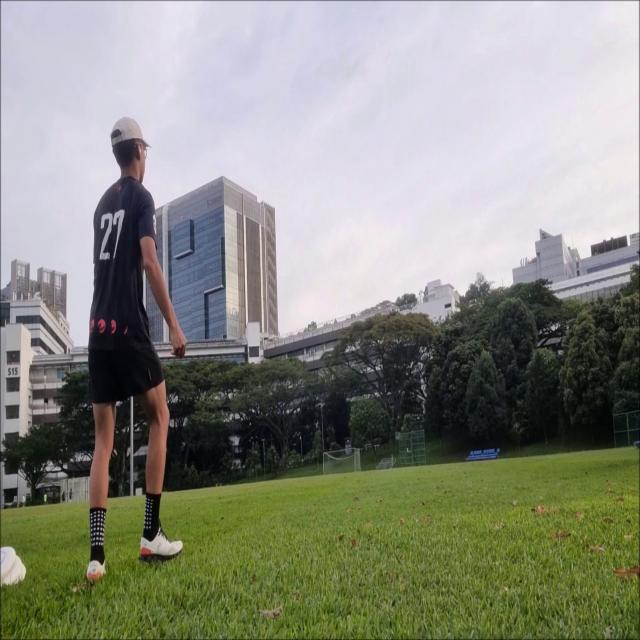disc: (486, 280, 496, 285)
